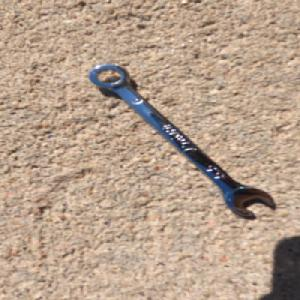Wrench: (87, 62, 275, 217)
